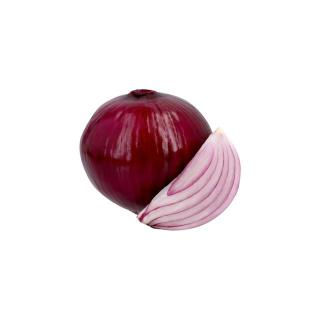Bawang Merah: (78, 86, 243, 232)
